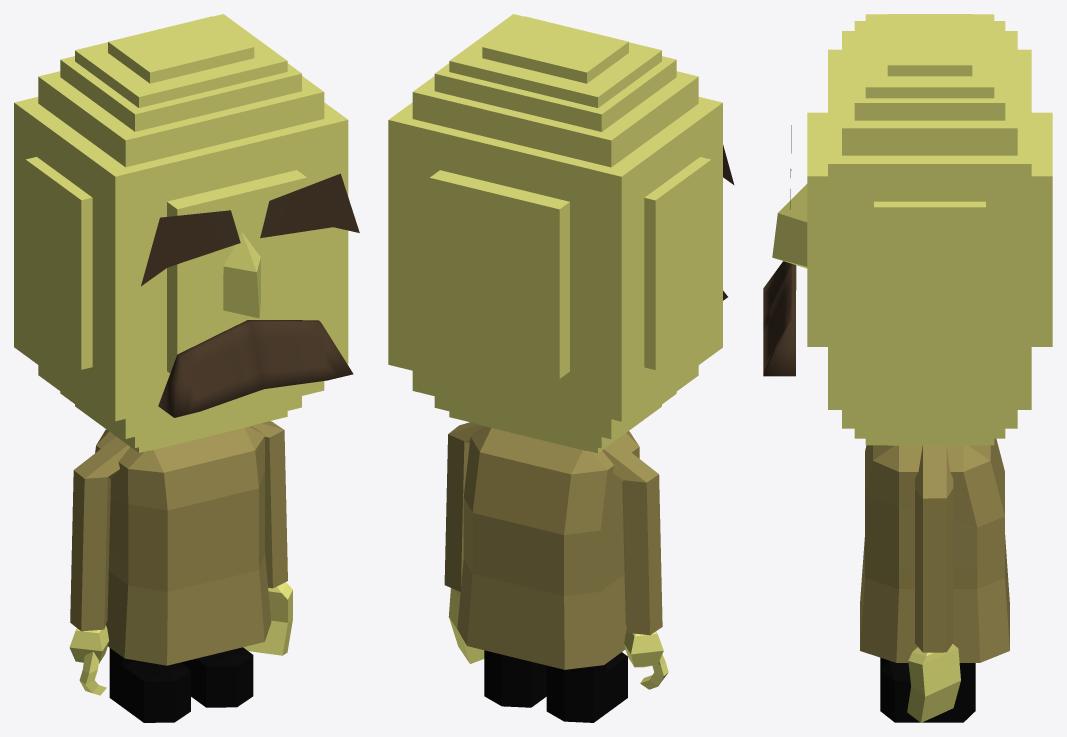
The model's file is Stallin-PROTO.fbx.
The picture shows the model from 3 angles, left to right: view 1: azimuth 30°, elevation 25°; view 2: azimuth 150°, elevation 25°; view 3: azimuth 270°, elevation 25°; orthographic projection.
Parts seen in each view (by area): view 1: Stalin; view 2: Stalin; view 3: Stalin.
Part boxes in pixels (box(x1,y1,x2,y2)): Stalin: box(14, 14, 359, 722); Stalin: box(388, 14, 734, 722); Stalin: box(763, 14, 1052, 722).
Size of the model in its own units: 59.09 by 144 by 57.68.
